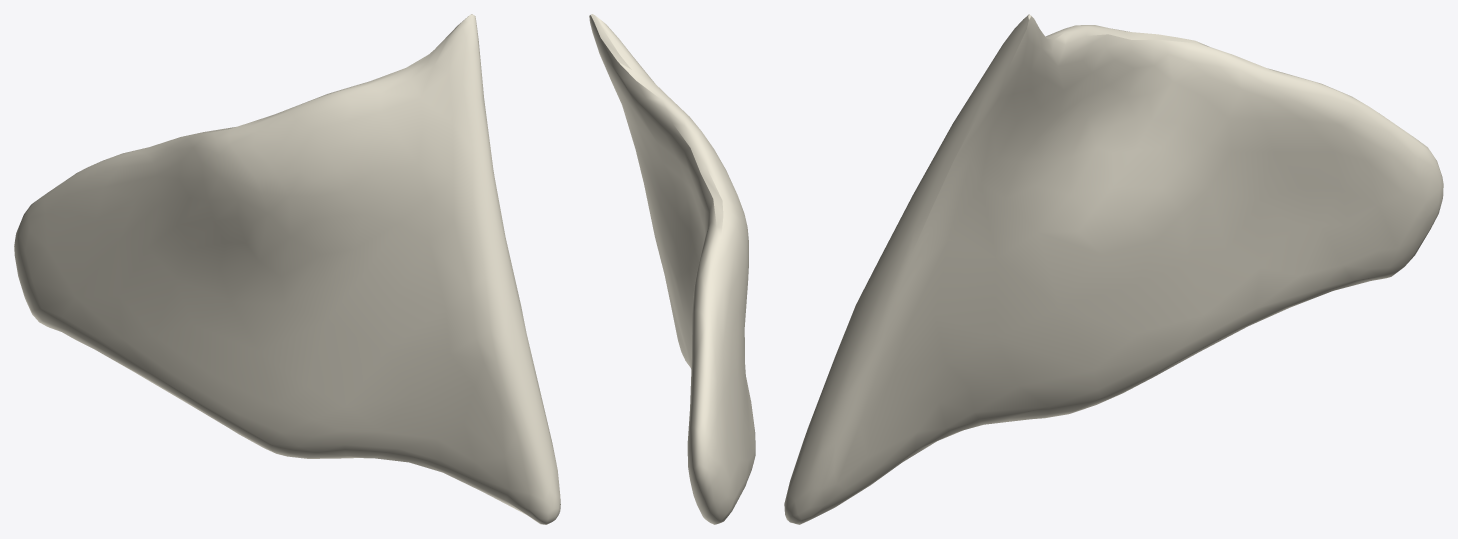
Rendered from fma59512_mm2068m.glb.
The picture shows the model from 3 angles, left to right: view 1: azimuth 30°, elevation 25°; view 2: azimuth 150°, elevation 25°; view 3: azimuth 270°, elevation 25°; orthographic projection. The views are drawn at different scales.
Visible parts, largest first — view 1: FMA59512_MM2068M; view 2: FMA59512_MM2068M; view 3: FMA59512_MM2068M.
Part boxes in pixels (<box>): FMA59512_MM2068M: <box>14,14,560,524</box>; FMA59512_MM2068M: <box>589,14,755,524</box>; FMA59512_MM2068M: <box>784,14,1443,524</box>.
Bounding box in the file's own units: 0.0112 × 0.0157 × 0.0179.
